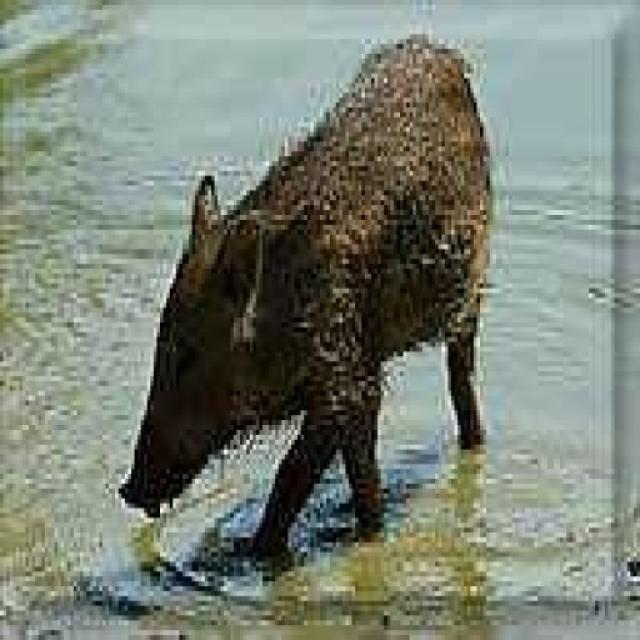pig: (120, 9, 613, 543)
